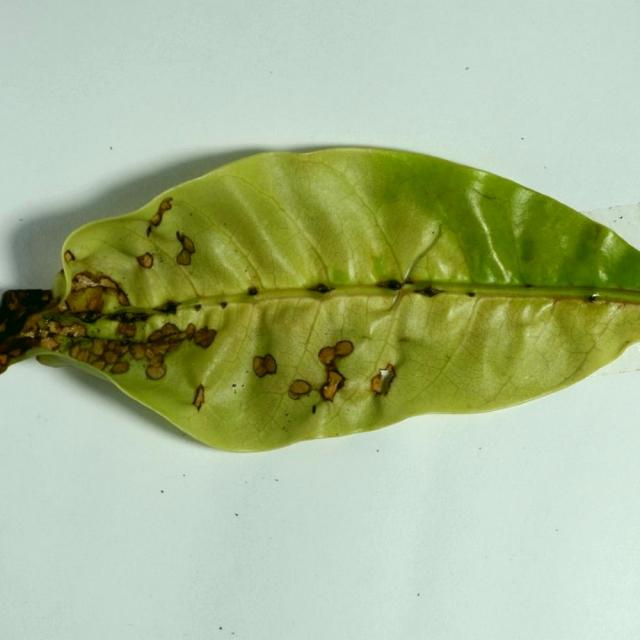Anthracnose: (60, 208, 179, 305), (379, 301, 477, 414), (535, 299, 638, 392), (470, 312, 557, 398), (161, 273, 397, 301), (465, 182, 515, 279), (137, 322, 208, 378), (401, 223, 444, 290), (65, 271, 129, 314), (346, 257, 431, 287), (70, 338, 133, 374), (250, 335, 287, 381), (603, 244, 640, 287), (76, 316, 137, 341), (318, 355, 350, 399), (146, 197, 173, 235), (142, 346, 170, 380), (54, 261, 75, 306), (48, 312, 99, 330), (252, 331, 275, 370), (370, 364, 395, 396), (49, 332, 84, 353), (175, 232, 196, 266), (369, 255, 396, 281), (96, 306, 150, 317), (193, 326, 217, 349), (287, 379, 312, 400), (519, 237, 538, 264), (589, 294, 629, 305), (471, 187, 500, 202), (388, 286, 404, 310), (328, 269, 351, 285), (192, 384, 205, 411), (160, 301, 181, 315), (356, 328, 378, 341), (79, 311, 101, 323), (614, 300, 637, 309), (41, 313, 61, 322), (387, 280, 402, 290), (396, 337, 412, 344), (247, 287, 259, 296), (588, 293, 600, 302), (373, 386, 382, 397), (146, 226, 153, 237), (625, 339, 632, 346), (524, 283, 533, 288), (468, 292, 477, 297), (312, 405, 317, 414), (431, 230, 435, 235)
Mango: (0, 146, 639, 455)
